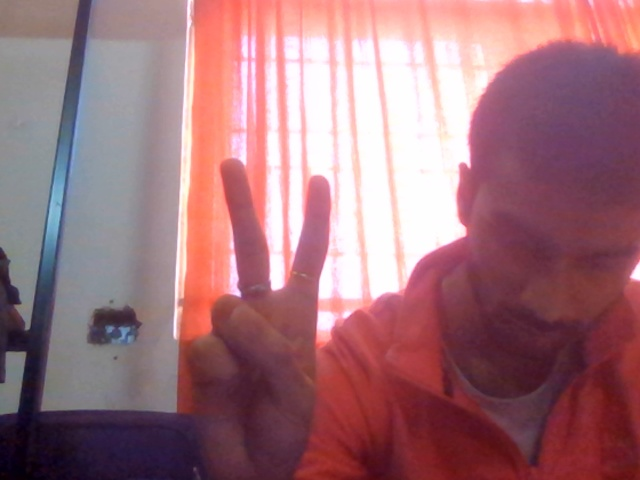V: (155, 142, 389, 474)
